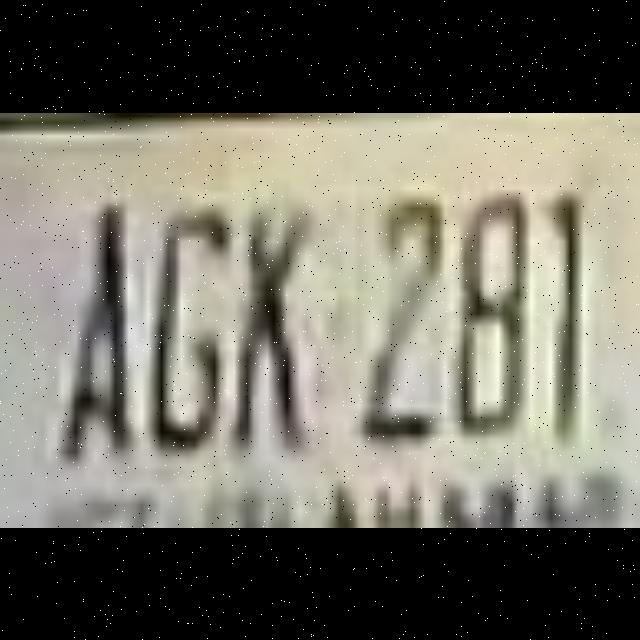1: (521, 171, 607, 475)
2: (356, 171, 442, 475)
8: (439, 171, 525, 475)
A: (55, 166, 141, 470)
G: (147, 171, 233, 475)
K: (232, 172, 318, 476)
